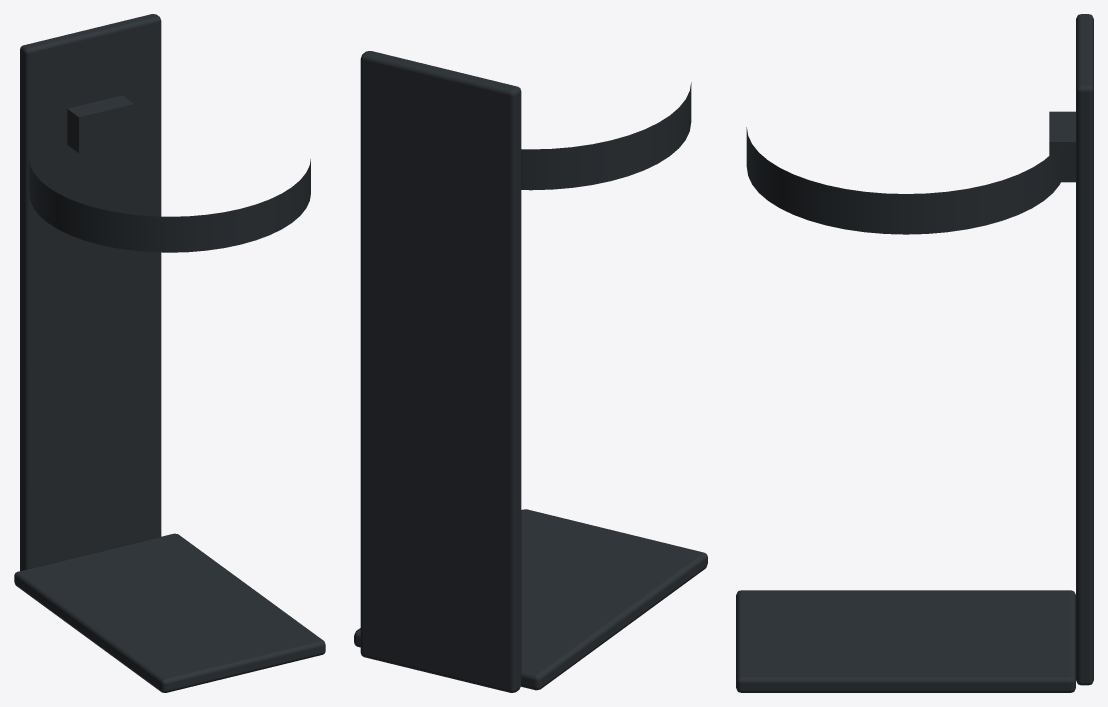
File: SM_ExtinguisherBracket.glb
3 renders of one model, left to right at view 1: azimuth 30°, elevation 25°; view 2: azimuth 150°, elevation 25°; view 3: azimuth 270°, elevation 25°, orthographic. The views are drawn at different scales.
Visible parts, largest first — view 1: SM_ExtinguisherBracket; view 2: SM_ExtinguisherBracket; view 3: SM_ExtinguisherBracket.
Boxes of the visible parts, x1,y1,x2,y2 form: SM_ExtinguisherBracket: (14, 14, 325, 692); SM_ExtinguisherBracket: (354, 51, 707, 692); SM_ExtinguisherBracket: (736, 14, 1093, 692).
Size of the model in its own units: 0.178 by 0.37 by 0.2.
1 material, 1 textured.
